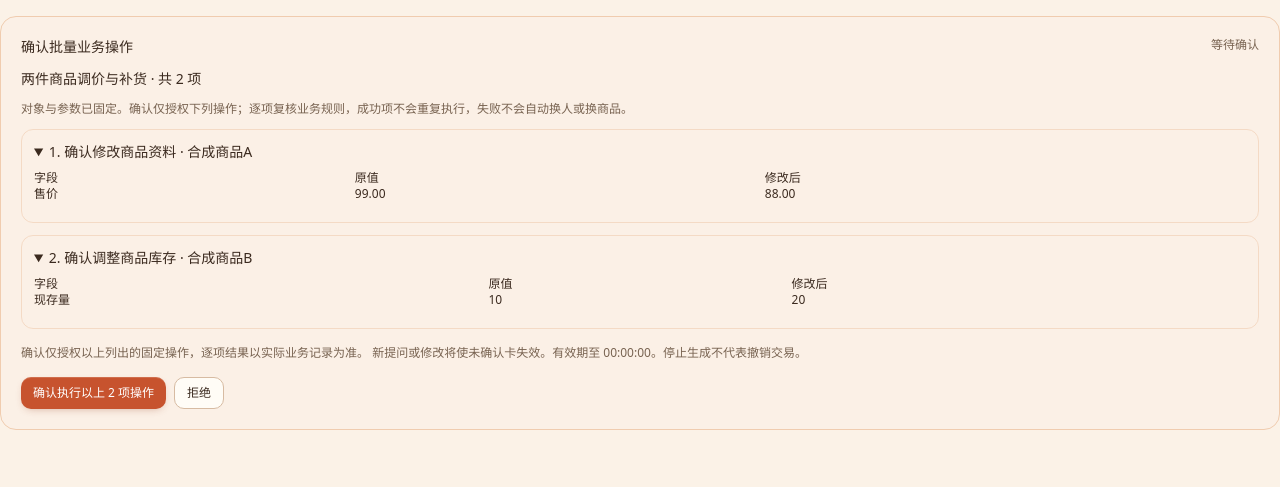
Test: 一个确认入口展示不同业务及前后值，部分失败逐项呈现，刷新不提供成功项重发
The width and height of the screenshot is (1280, 487).
Expected: the text "88.00" is shown, [765,186,1246,202]
Expected: the text "现存量" is shown, [34,292,488,308]
Click the button "确认执行以上 2 项操作". click: click(94, 393)
box: [21,377,166,409]
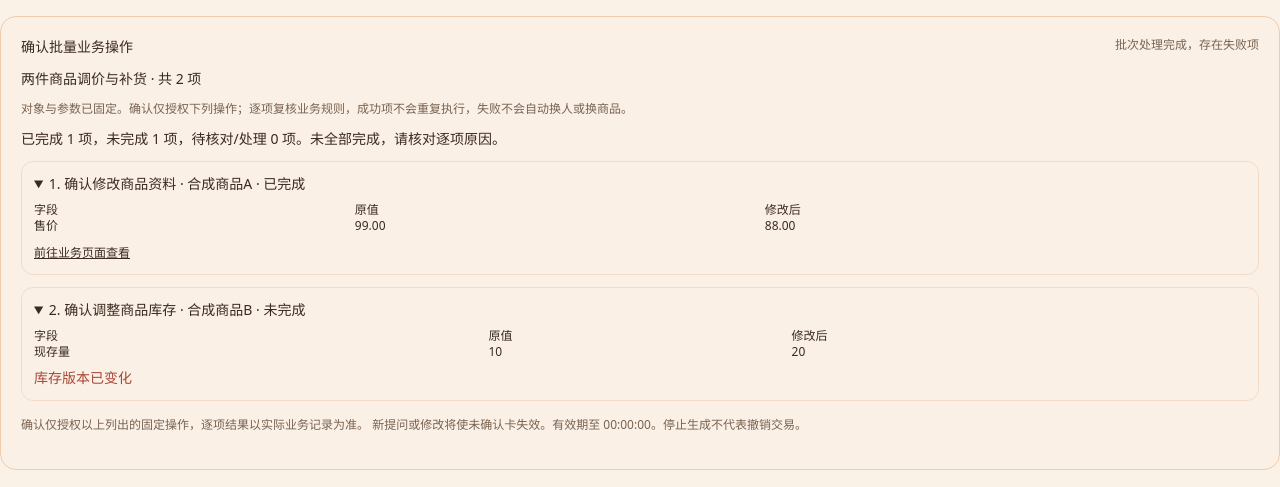
Now the message shows "已完成 1 项，未完成 1 项", box [21,129,506,148]
Now the text "库存版本已变化" is shown, box [34,368,132,387]
Now the button "确认执行以上" is gone
